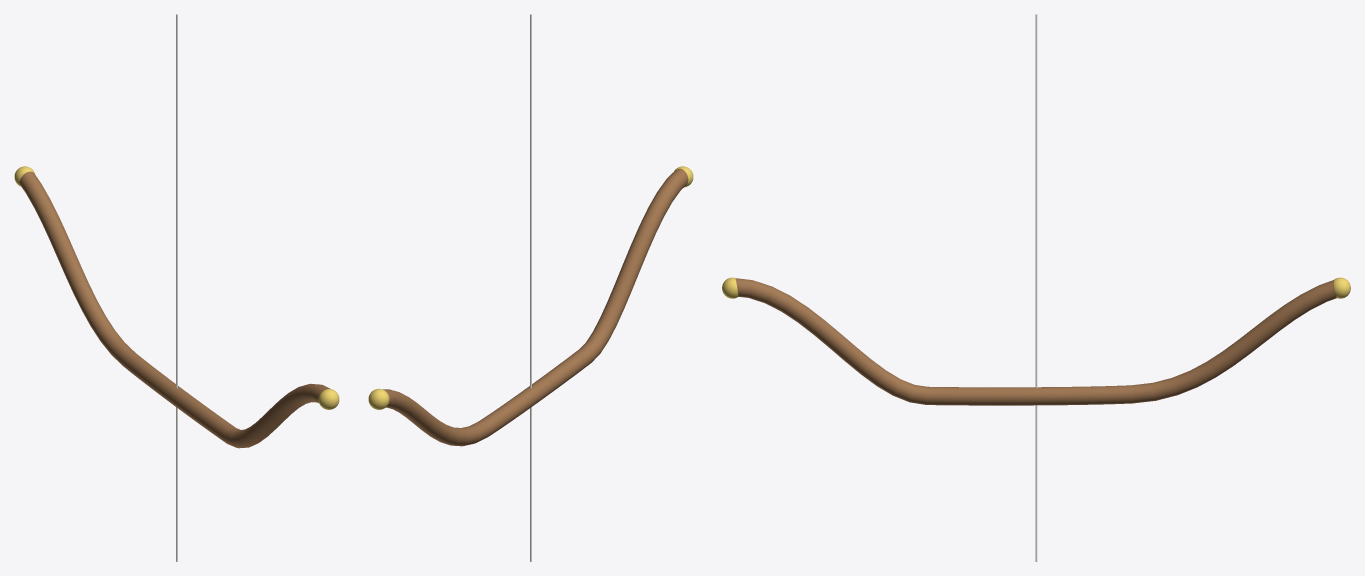
File: weapon_longbow.glb
The picture shows the model from 3 angles, left to right: view 1: azimuth 30°, elevation 25°; view 2: azimuth 150°, elevation 25°; view 3: azimuth 270°, elevation 25°; orthographic projection.
Visible parts, largest first — view 1: Sphere.001; view 2: Sphere.001; view 3: Sphere.001.
Boxes of the visible parts, x1=… form: Sphere.001: x1=14, y1=14, x2=339, y2=561; Sphere.001: x1=368, y1=14, x2=693, y2=561; Sphere.001: x1=722, y1=14, x2=1350, y2=561.
Size of the model in its own units: 0.0451 by 1.29 by 1.34.
